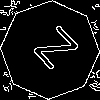Z: (25, 25, 80, 78)
